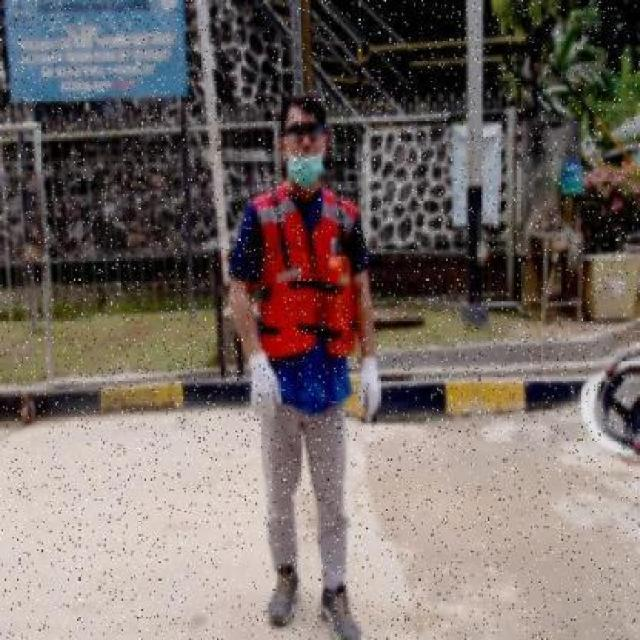Boots: (316, 580, 361, 638), (267, 564, 302, 631)
Gloves: (244, 346, 282, 419), (354, 354, 384, 424)
Mask: (286, 153, 325, 187)
Protective Glasses: (284, 125, 327, 144)
Vest: (250, 186, 362, 360)
